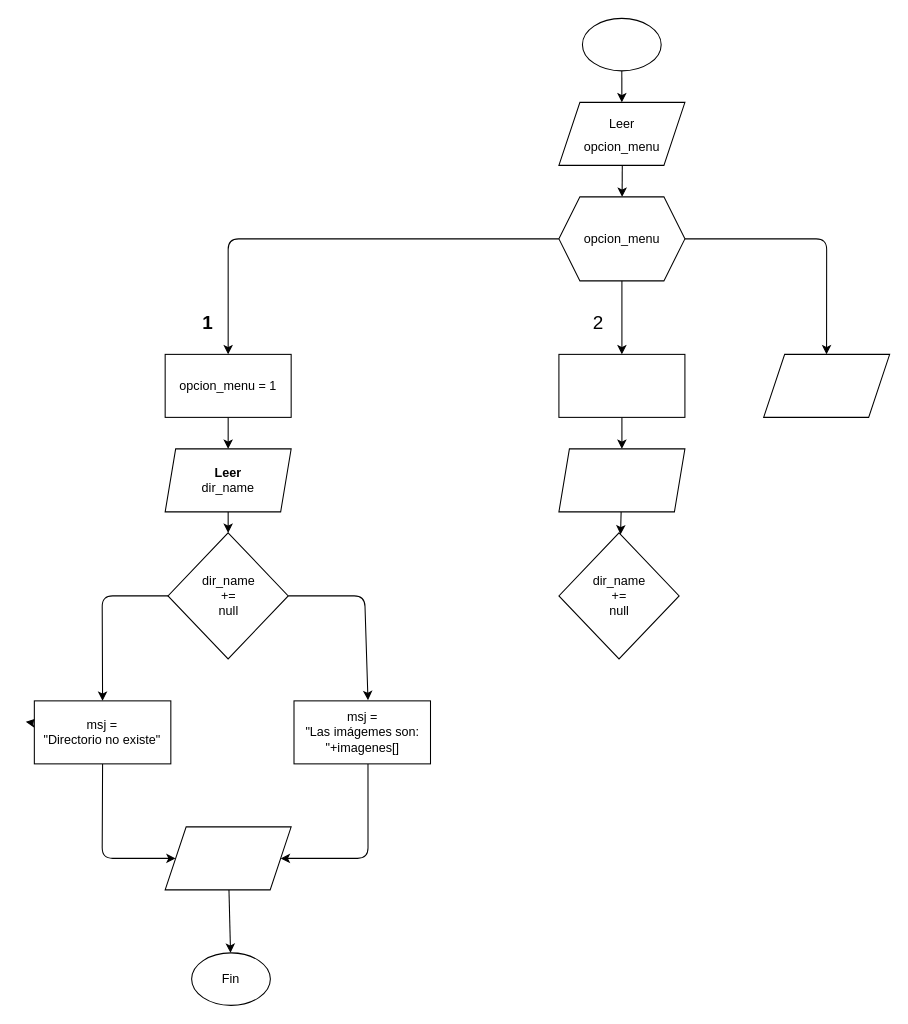
Image size: 908x1024. Some labels were removed from this diagram. Each missing label, with the centre of its shape:
Imprimir msj: pixel 227 858
Leer file_name: pixel 621 480
opcion_menu = 0: pixel 826 385
opcion_menu = 2: pixel 621 385
Start: pixel 621 44
